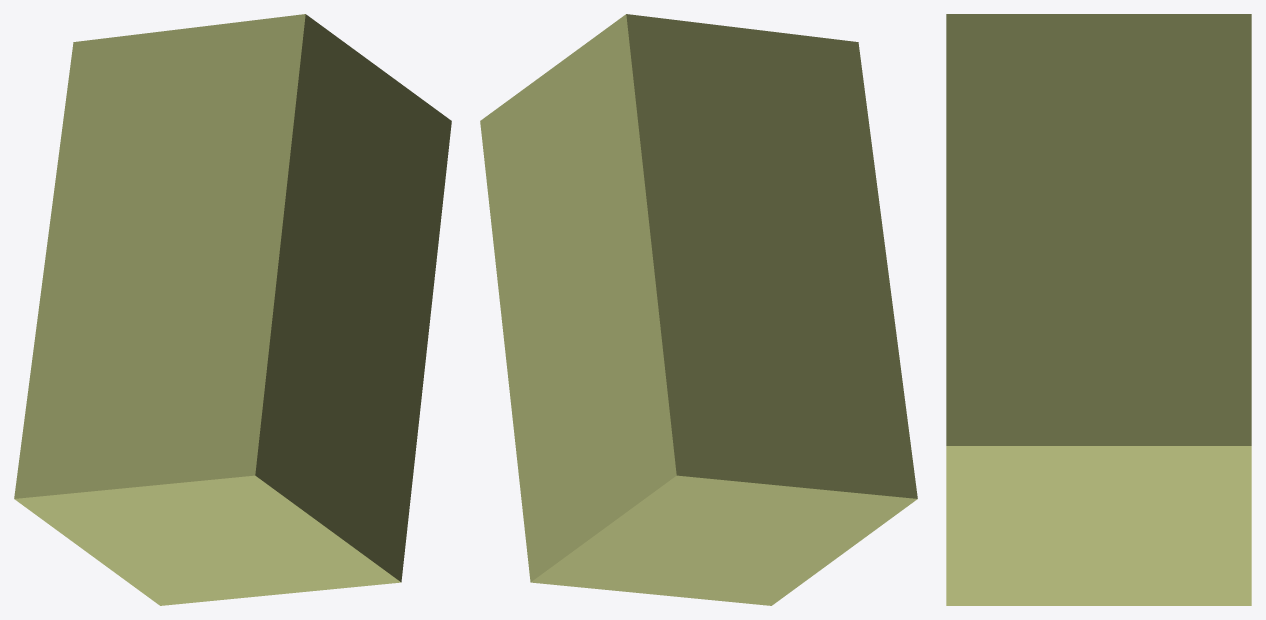
3 views of the same model, side by side, from view 1: azimuth 30°, elevation 25°; view 2: azimuth 150°, elevation 25°; view 3: azimuth 270°, elevation 25° (orthographic). The views are drawn at different scales.
Parts seen in each view (by area): view 1: 0_1_0_0_1_0_0_3_0; view 2: 0_1_0_0_1_0_0_3_0; view 3: 0_1_0_0_1_0_0_3_0.
Boxes of the visible parts, left/top/right/bottom form: 0_1_0_0_1_0_0_3_0: left=14, top=14, right=451, bottom=605; 0_1_0_0_1_0_0_3_0: left=480, top=14, right=917, bottom=605; 0_1_0_0_1_0_0_3_0: left=946, top=14, right=1251, bottom=605.
Bounding box in the file's own units: 6.91 × 10.82 × 6.
